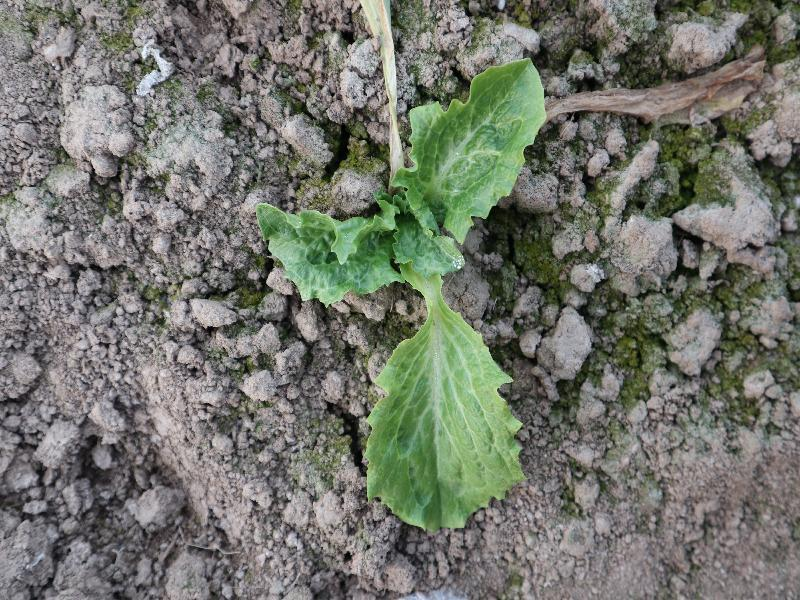lettuce: (254, 57, 546, 531)
